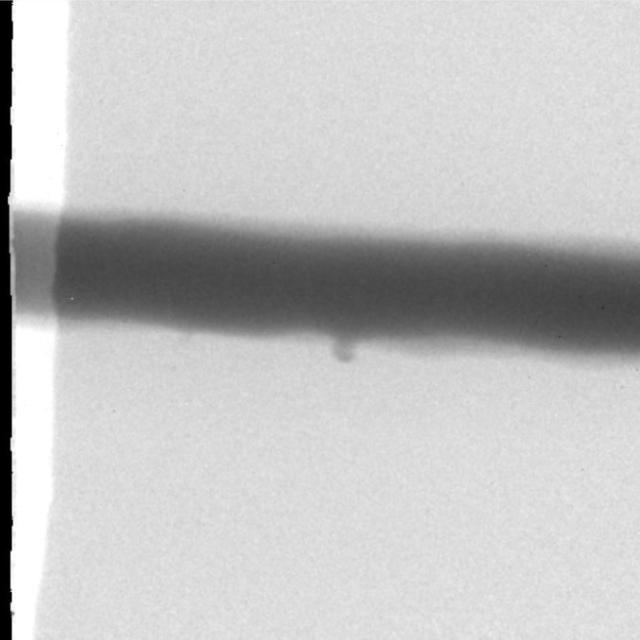overlap: (328, 327, 357, 361)
